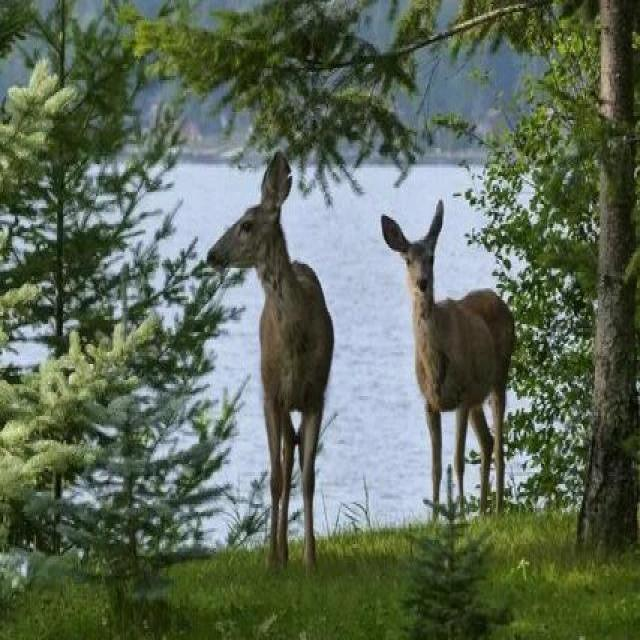deer: (205, 181, 408, 640), (400, 266, 547, 522)
